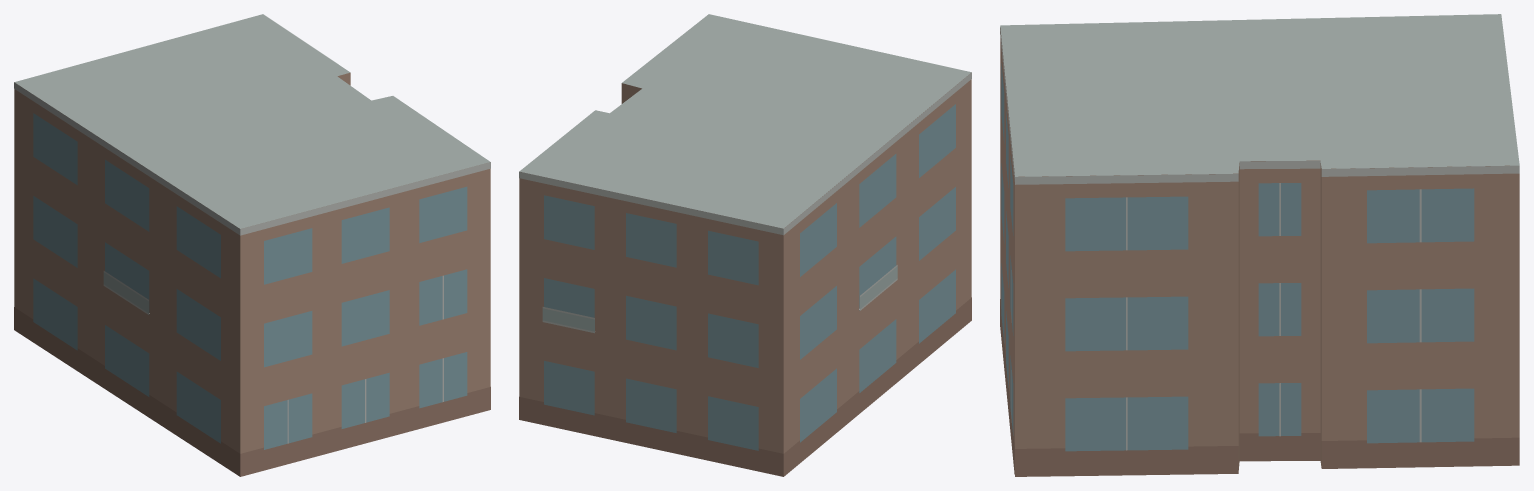
File: survey-upis-32671943.glb
3 views of the same model, side by side, from view 1: azimuth 30°, elevation 25°; view 2: azimuth 150°, elevation 25°; view 3: azimuth 270°, elevation 25° (orthographic). The views are drawn at different scales.
Parts seen in each view (by area): view 1: survey-upis-32671943.tmp; view 2: survey-upis-32671943.tmp; view 3: survey-upis-32671943.tmp.
Part boxes in pixels (bbox=[...]): survey-upis-32671943.tmp: bbox=[14, 14, 490, 476]; survey-upis-32671943.tmp: bbox=[519, 14, 971, 476]; survey-upis-32671943.tmp: bbox=[1000, 14, 1519, 476].
Bounding box in the file's own units: 10.66 × 9.15 × 14.37.
